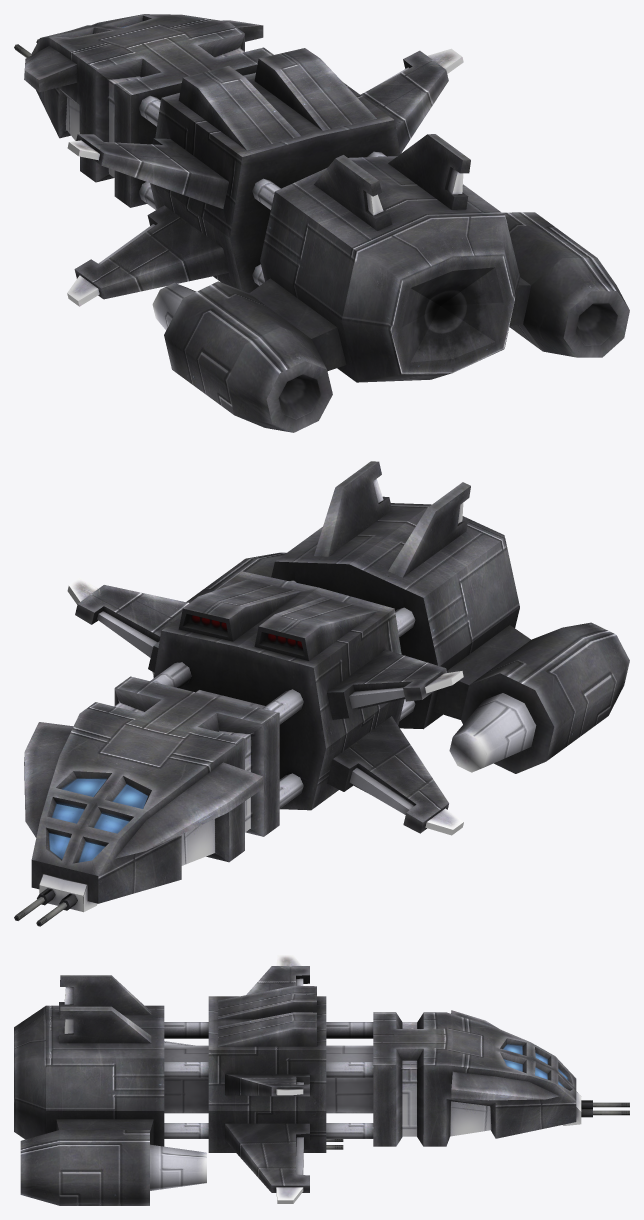
Rendered from Warship.FBX.
3 renders of one model, top to bottom at view 1: azimuth 30°, elevation 25°; view 2: azimuth 150°, elevation 25°; view 3: azimuth 270°, elevation 25°, orthographic. The views are drawn at different scales.
Parts seen in each view (by area): view 1: SF_WAR; view 2: SF_WAR; view 3: SF_WAR.
Boxes of the visible parts, bbox=[...] form: SF_WAR: bbox=[14, 14, 629, 432]; SF_WAR: bbox=[14, 461, 629, 926]; SF_WAR: bbox=[14, 955, 629, 1205].
Size of the model in its own units: 25.61 by 48.28 by 13.74.
